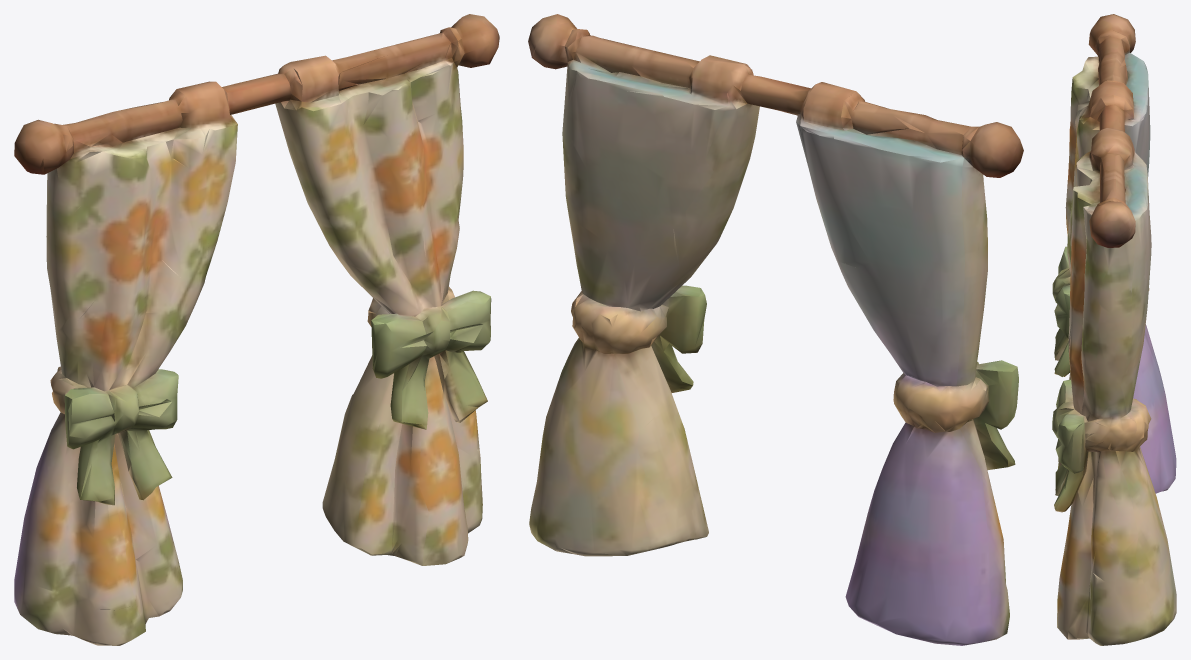
File: curtain20.glb
The picture shows the model from 3 angles, left to right: view 1: azimuth 30°, elevation 25°; view 2: azimuth 150°, elevation 25°; view 3: azimuth 270°, elevation 25°; orthographic projection. The views are drawn at different scales.
Bounding box in the file's own units: 0.2335 × 0.2402 × 0.0597.
1 material, 1 textured.
